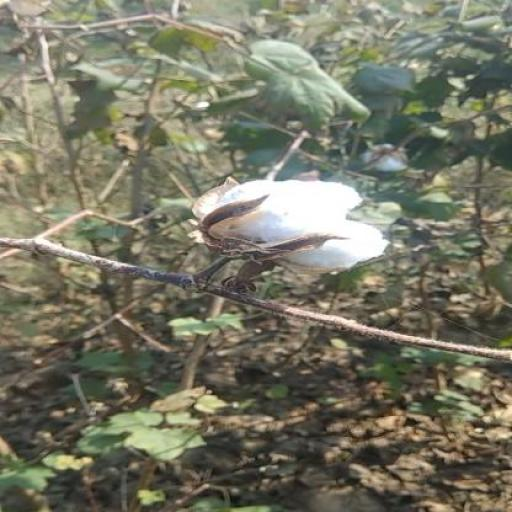cotton_ready: (152, 157, 396, 337)
